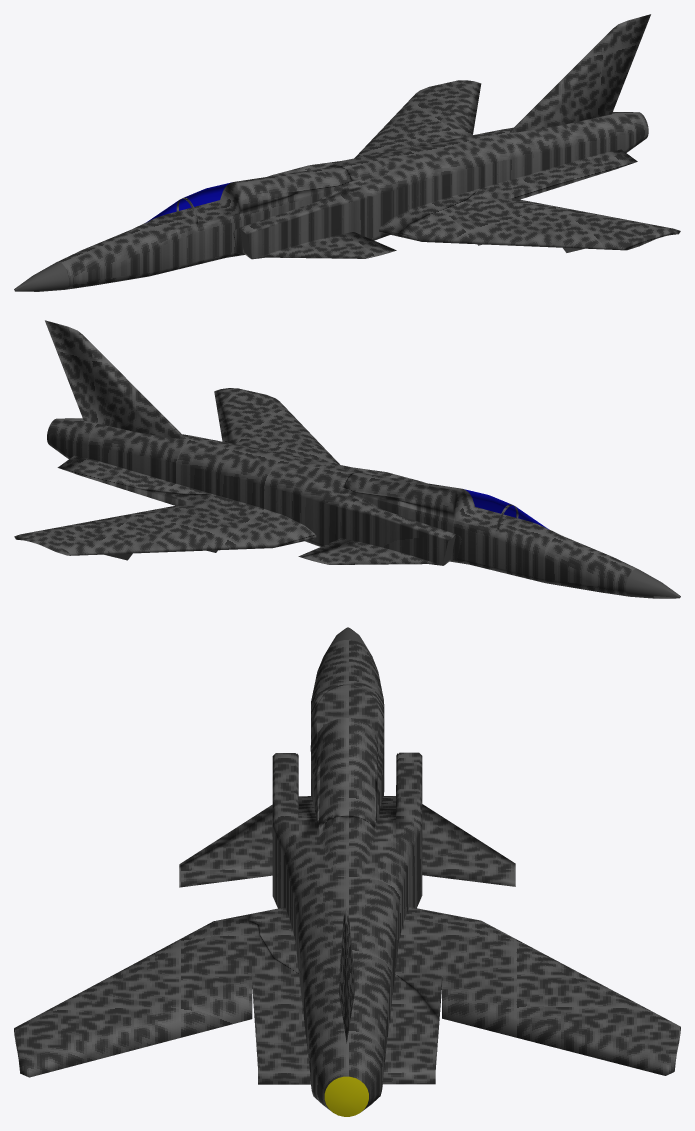
The picture shows the model from 3 angles, top to bottom: view 1: azimuth 30°, elevation 25°; view 2: azimuth 150°, elevation 25°; view 3: azimuth 270°, elevation 25°; orthographic projection. The views are drawn at different scales.
Visible parts, largest first — view 1: ICP_0Geo*0_0, ICP_3Geo*0_3, ICP_1Geo*0_1; view 2: ICP_0Geo*0_0, ICP_3Geo*0_3, ICP_1Geo*0_1; view 3: ICP_0Geo*0_0, ICP_2Geo*0_2.
Boxes of the visible parts, bbox=[...] form: ICP_0Geo*0_0: bbox=[56, 14, 680, 289]; ICP_3Geo*0_3: bbox=[14, 228, 251, 291]; ICP_1Geo*0_1: bbox=[146, 182, 230, 222]; ICP_0Geo*0_0: bbox=[14, 320, 637, 596]; ICP_3Geo*0_3: bbox=[443, 536, 680, 598]; ICP_1Geo*0_1: bbox=[465, 489, 548, 529]; ICP_0Geo*0_0: bbox=[14, 639, 680, 1111]; ICP_2Geo*0_2: bbox=[324, 1076, 368, 1116].
Bounding box in the file's own units: 1.74 × 0.3742 × 0.9943.
Materials: 4 (1 with a texture image).
